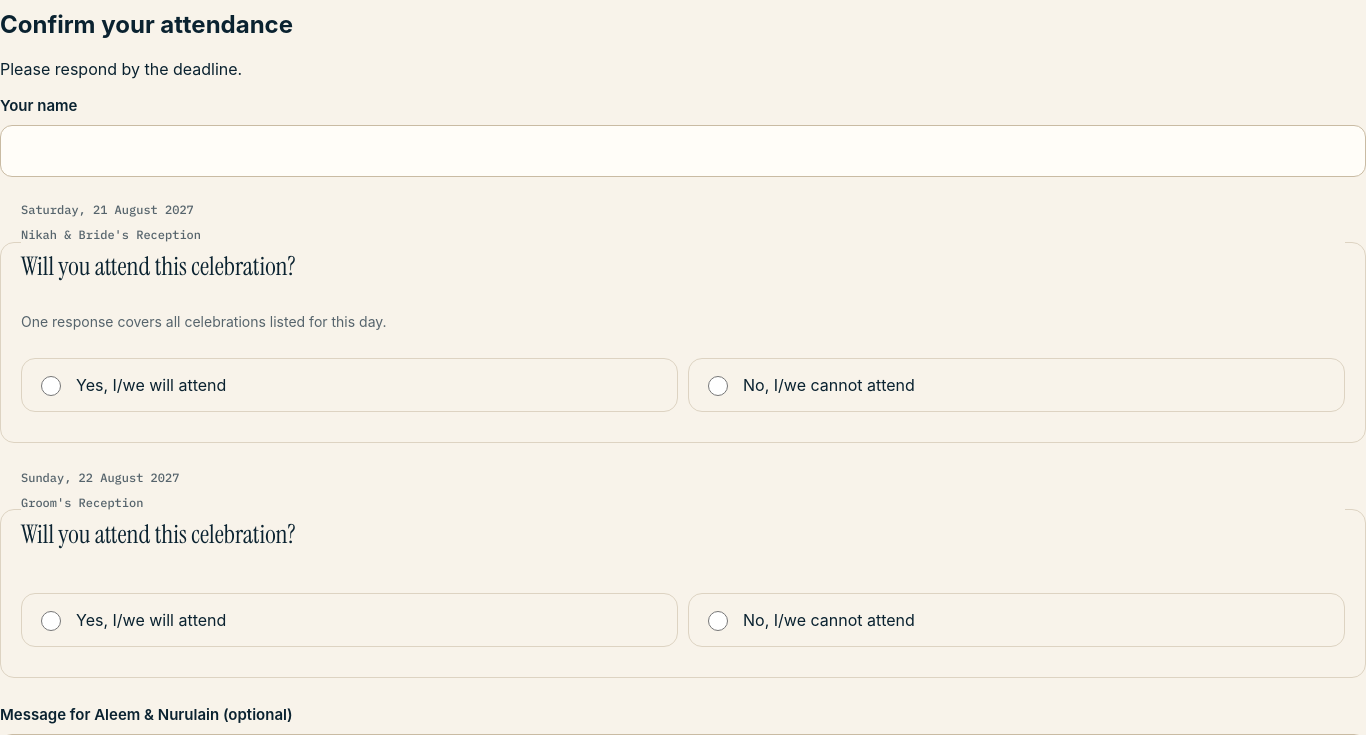
Scenario: RSVP flight confirmation › shows mixed attendance by event and adds only the attended event to the calendar
This screenshot has width=1366, height=735.
In the field labelled "Your name": [683, 151] box top-left (0, 125), bottom-right (1365, 177), type "Aminah Rahman"
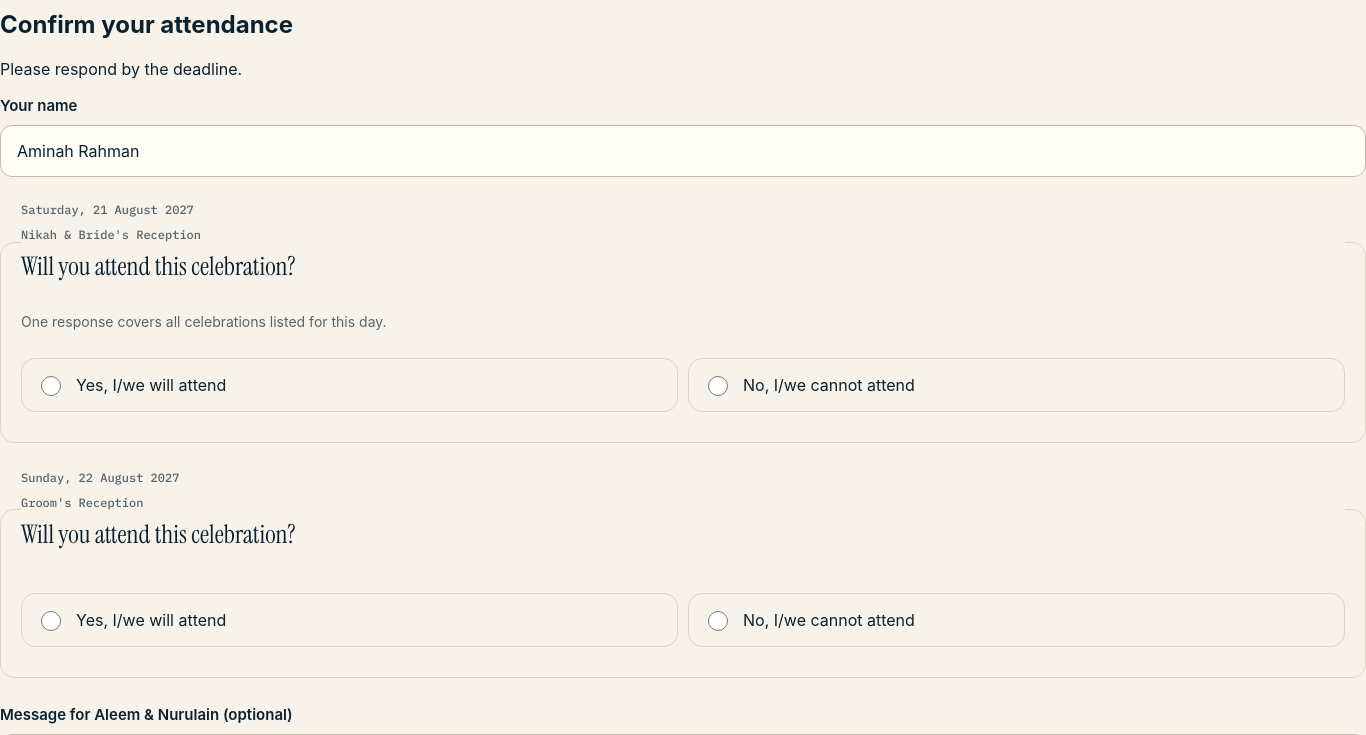
Click the radio button with id "attendance-0-yes": [51, 386] box top-left (41, 376), bottom-right (61, 396)
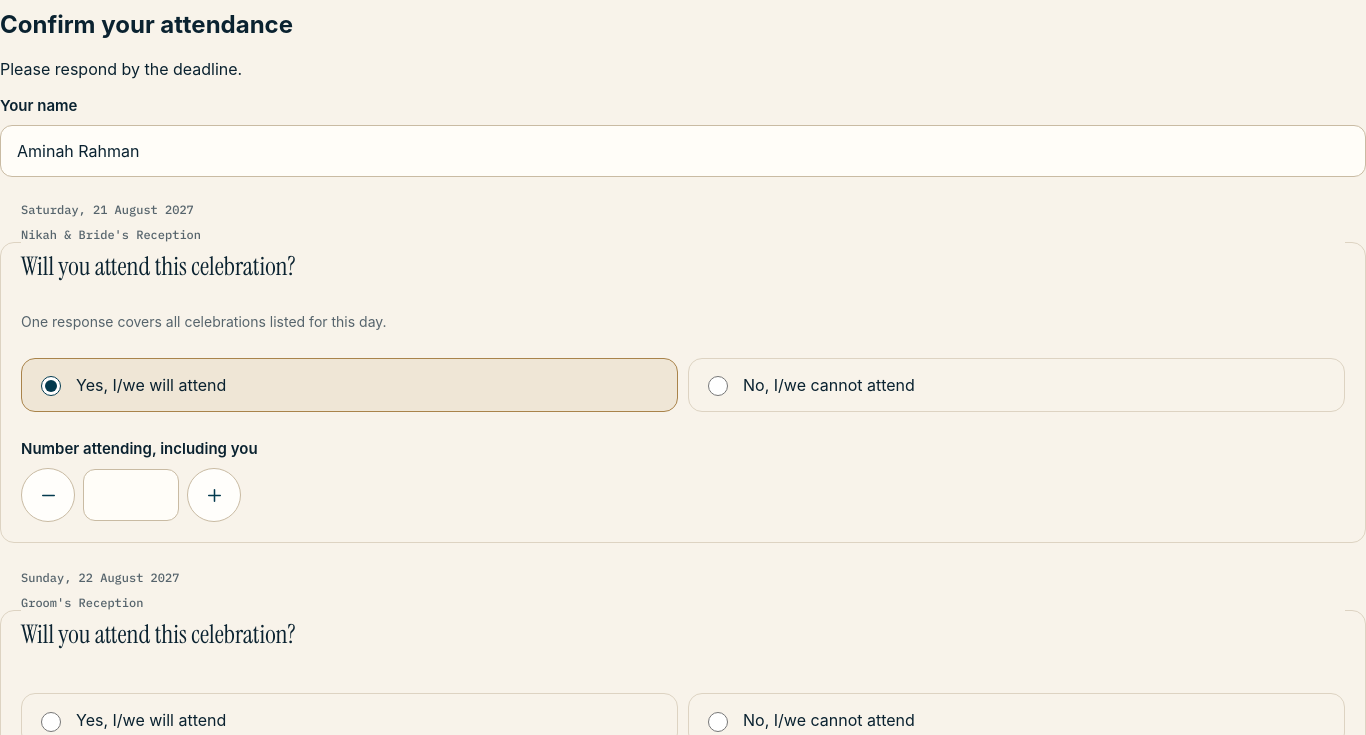
In the number field labelled "Number attending, including you": [131, 495] box top-left (83, 469), bottom-right (179, 521), type "2"
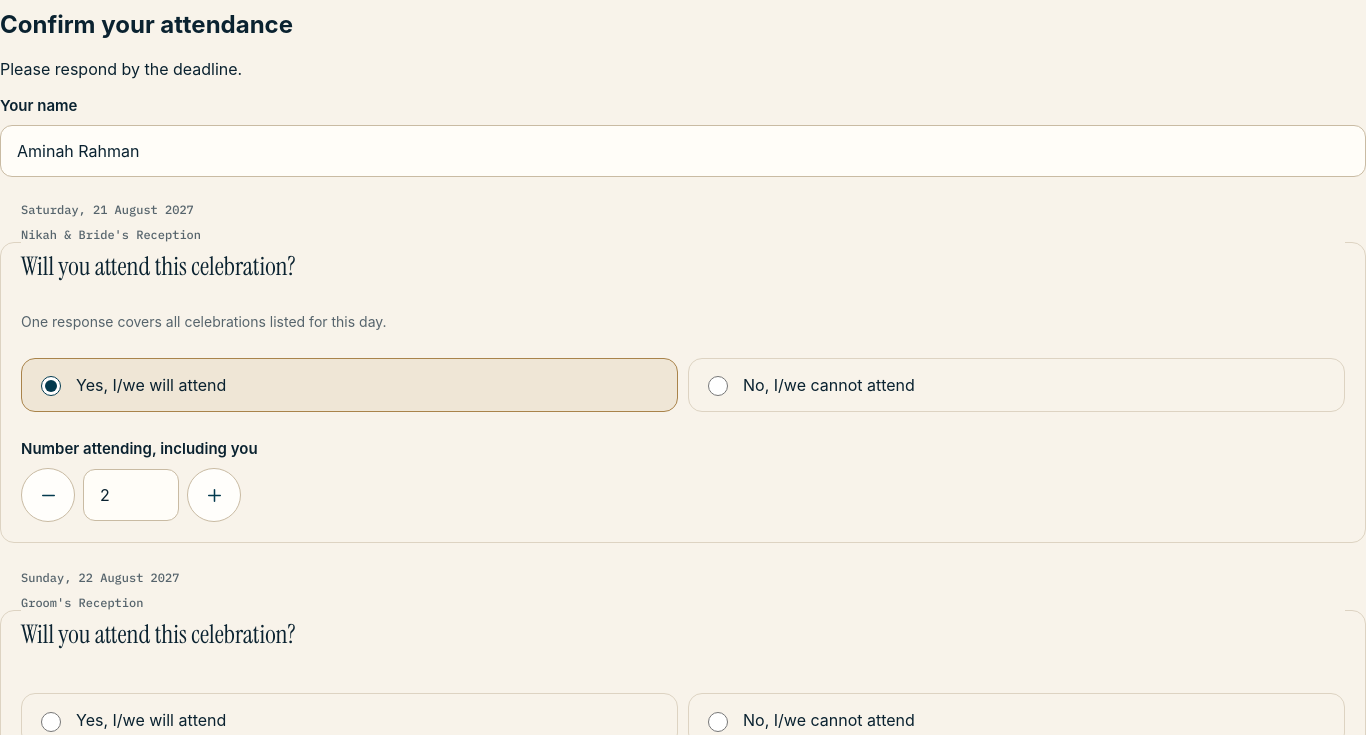
Click the 2nd radio button labelled "No, I/we cannot attend": [718, 722] box top-left (708, 712), bottom-right (728, 732)
(page scrolled)
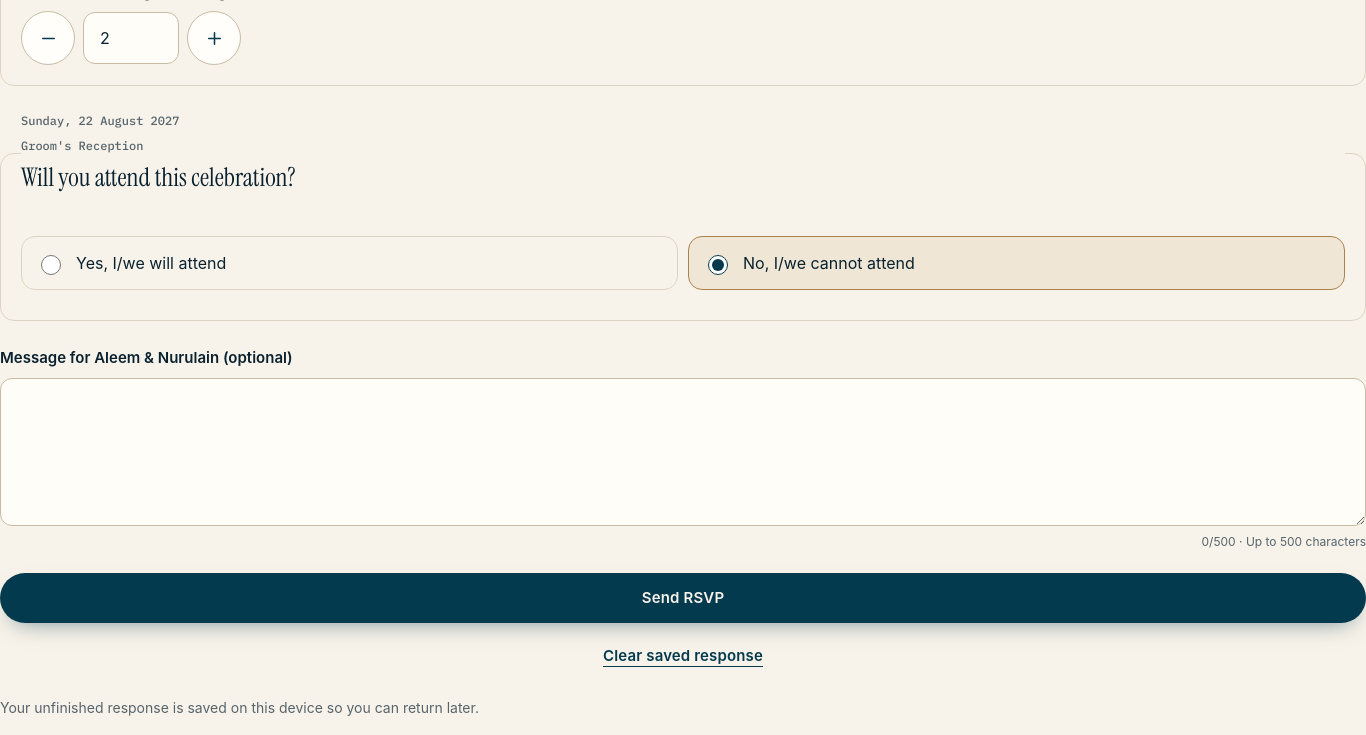
Click the button "Send RSVP": [683, 598] box top-left (0, 573), bottom-right (1365, 623)
(page scrolled)
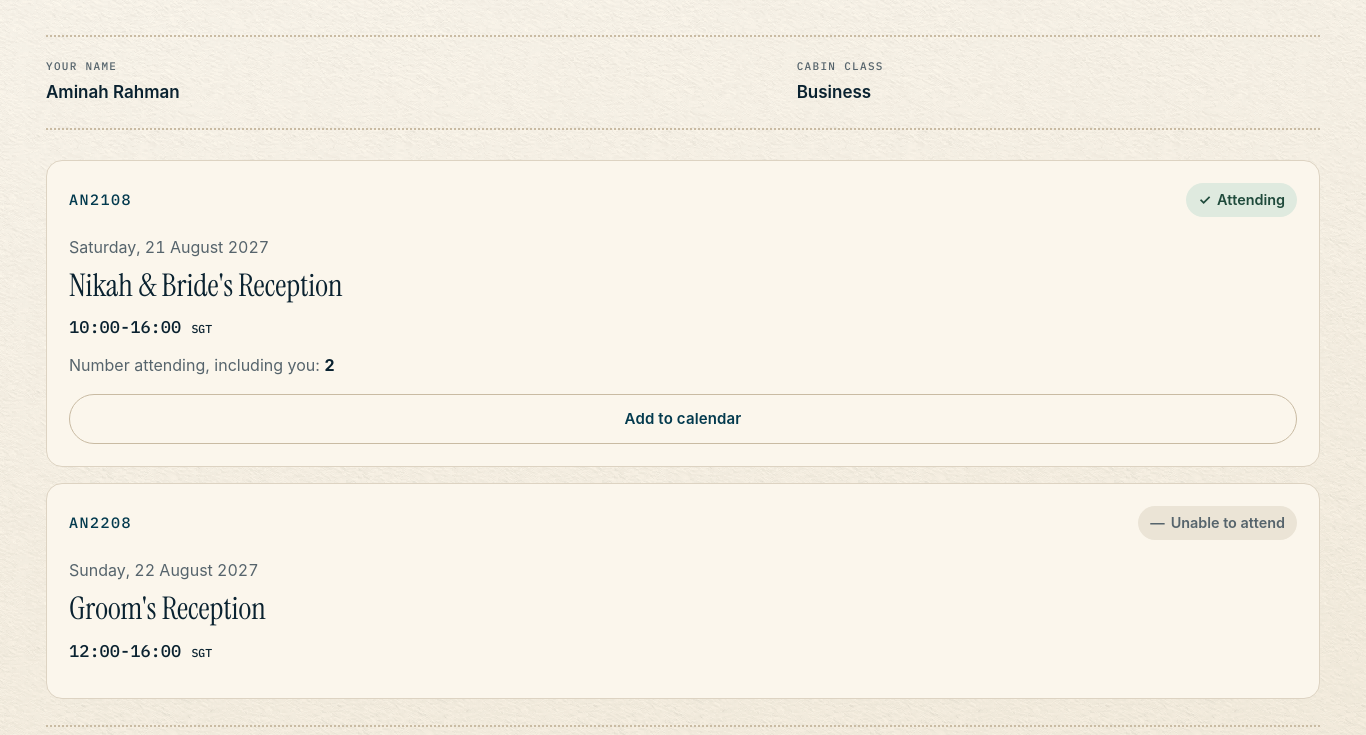
Result: the text "Attending" is shown at top-left (1217, 191), bottom-right (1285, 208)
Result: the text "Unable to attend" is shown at top-left (1171, 514), bottom-right (1285, 531)
